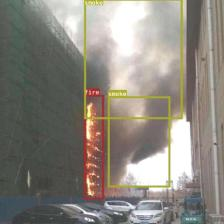fire: (84, 94, 104, 200)
smoke: (83, 0, 181, 118), (108, 96, 170, 187)
